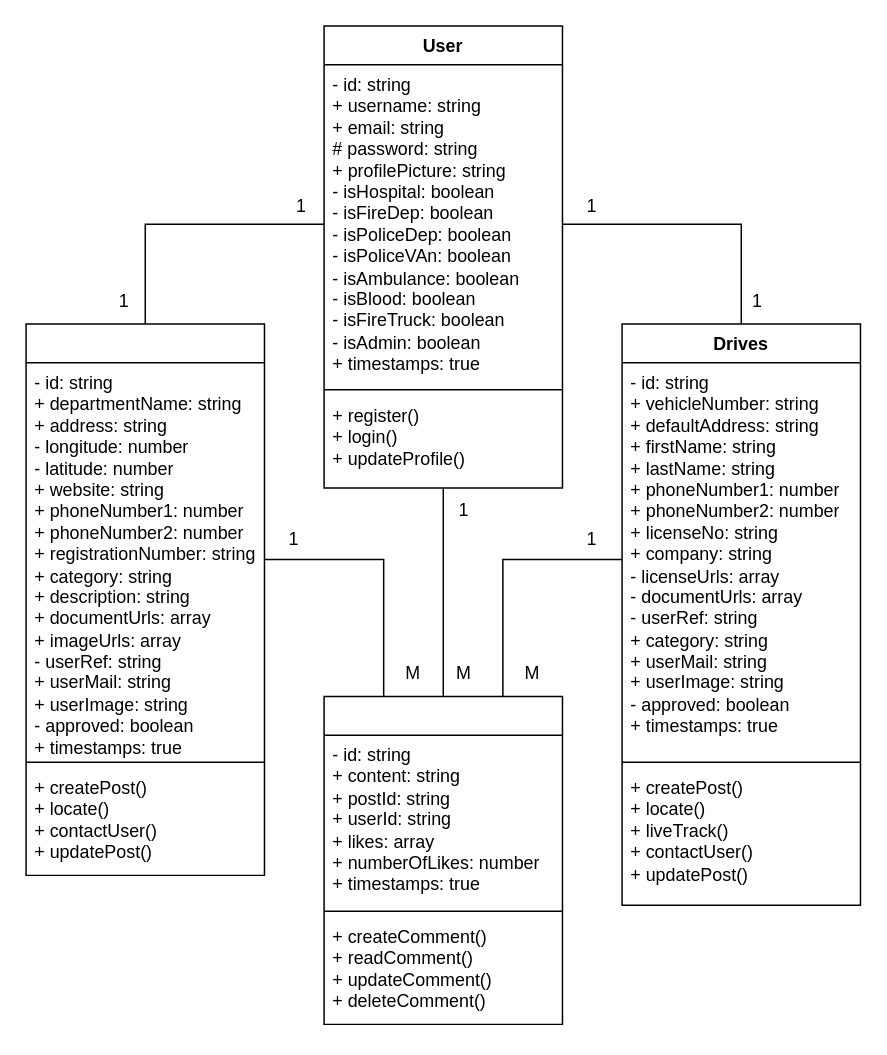
This 887x1055 diagram has some shape labels left out. Each missing label, with the box of its shape:
Comments: (323, 695, 562, 1024)
Posts: (25, 323, 264, 875)
